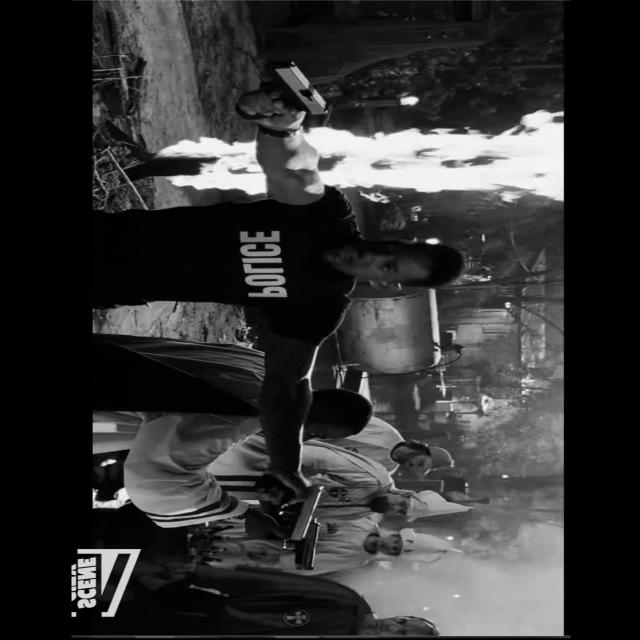weapons: (224, 55, 346, 124), (245, 468, 334, 545)
